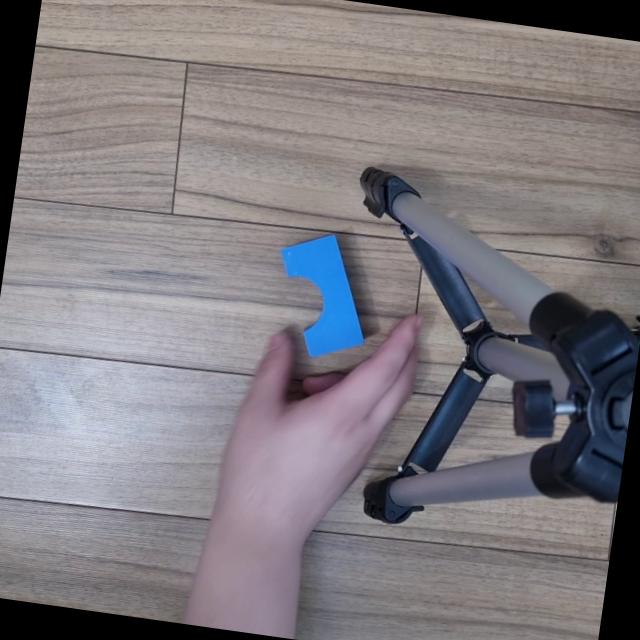block: (264, 228, 381, 380)
hand: (196, 280, 444, 562)
